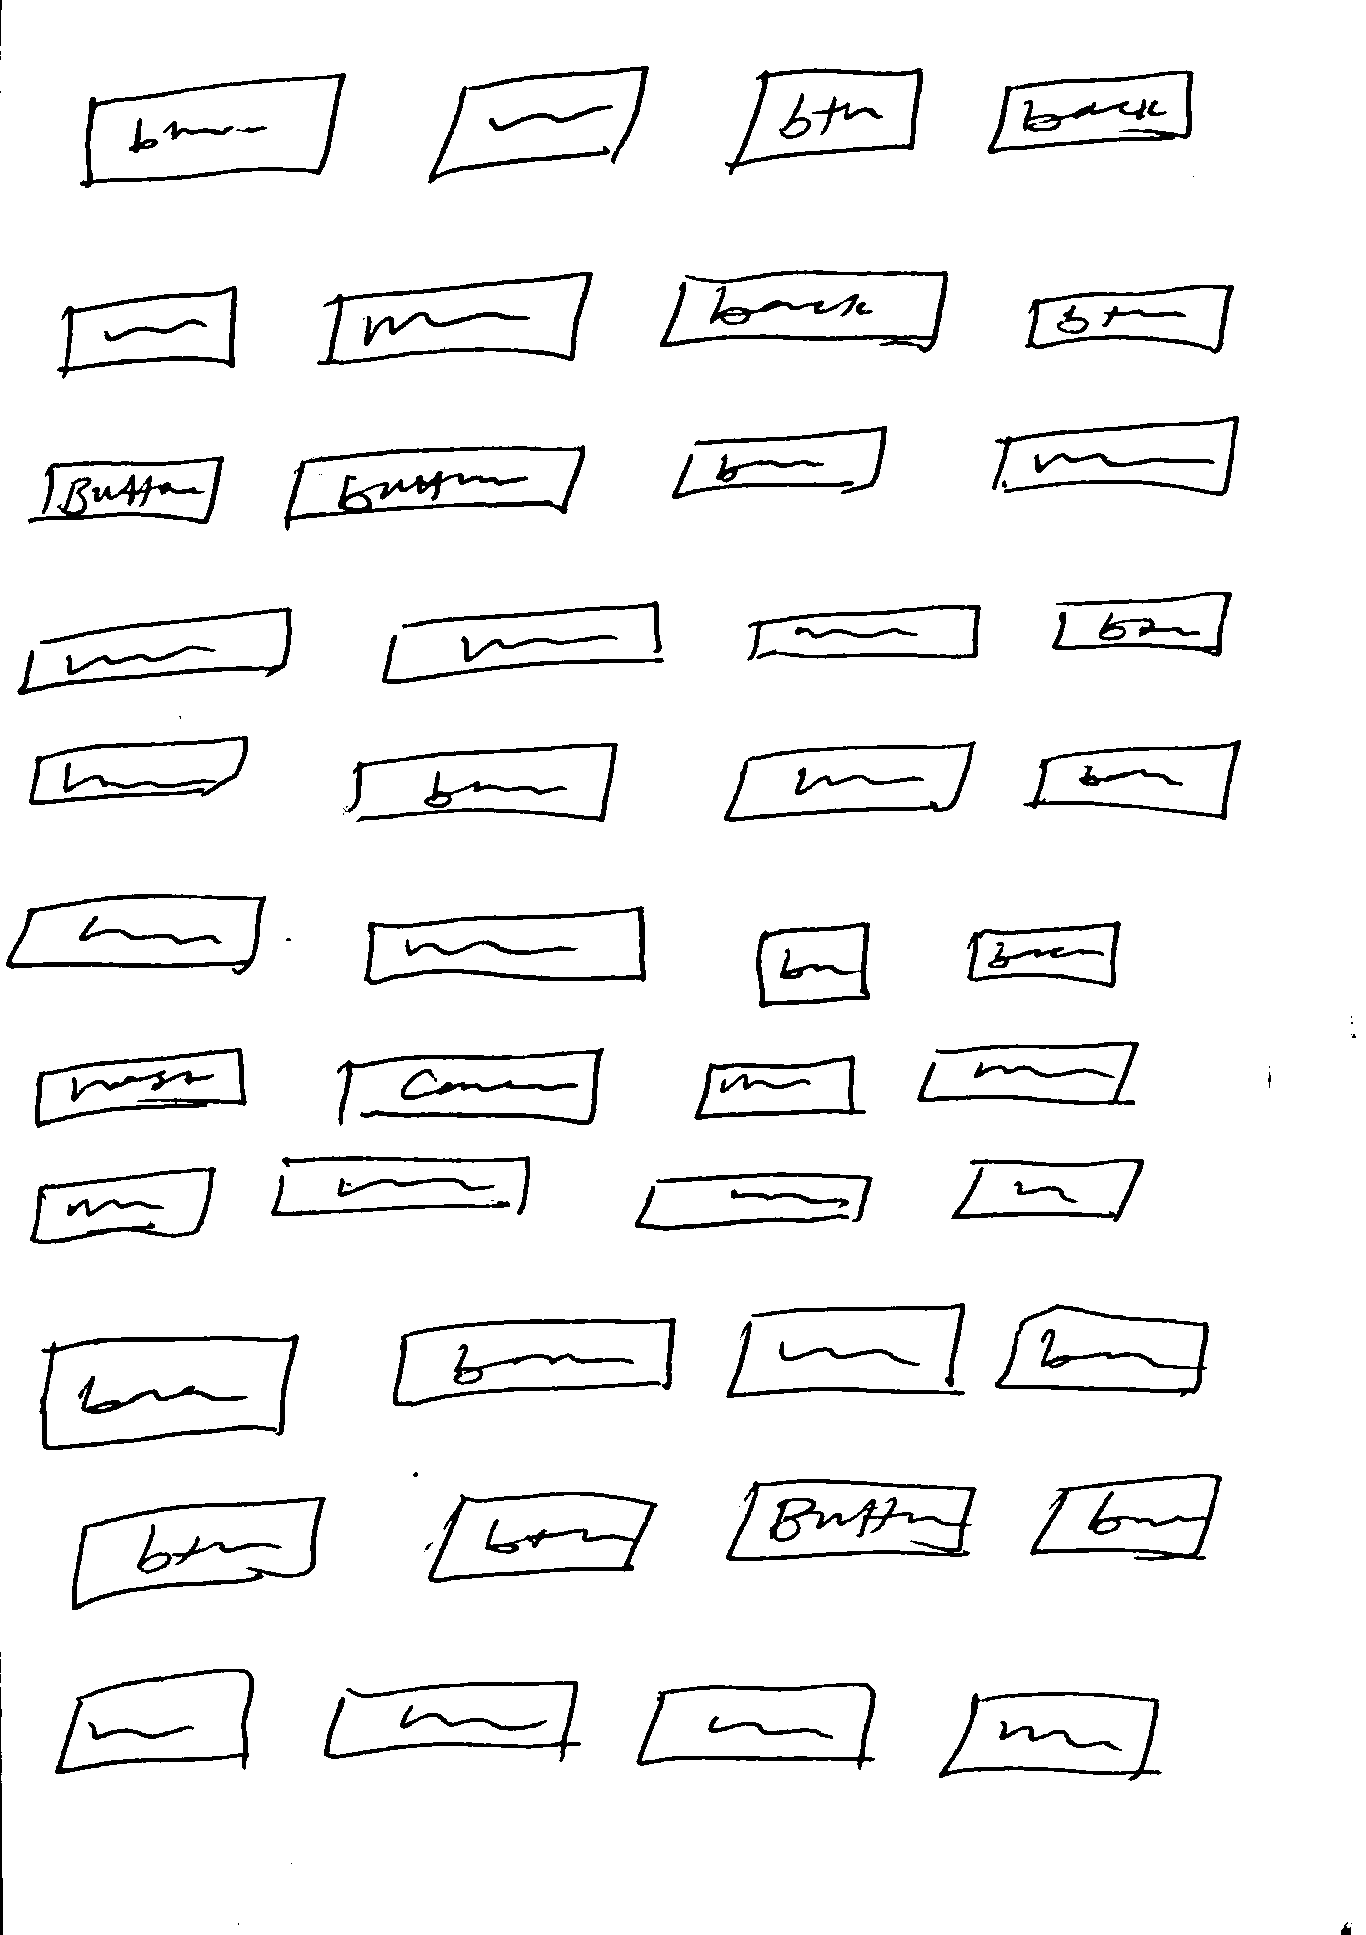Radio Button: (59, 1481, 336, 1619), (78, 68, 350, 194), (30, 1333, 306, 1455), (377, 1308, 680, 1418), (281, 441, 585, 529), (716, 1469, 980, 1571), (656, 266, 952, 353), (418, 1481, 653, 1591), (337, 738, 621, 825), (333, 1045, 605, 1132), (721, 62, 928, 174), (983, 1296, 1215, 1395), (989, 412, 1245, 501), (315, 1678, 582, 1758), (27, 1038, 253, 1131), (1027, 1466, 1230, 1567), (1026, 738, 1242, 822), (985, 69, 1195, 155), (673, 421, 888, 503), (28, 452, 229, 528), (1050, 587, 1234, 659), (962, 917, 1129, 995), (752, 915, 888, 1005)
